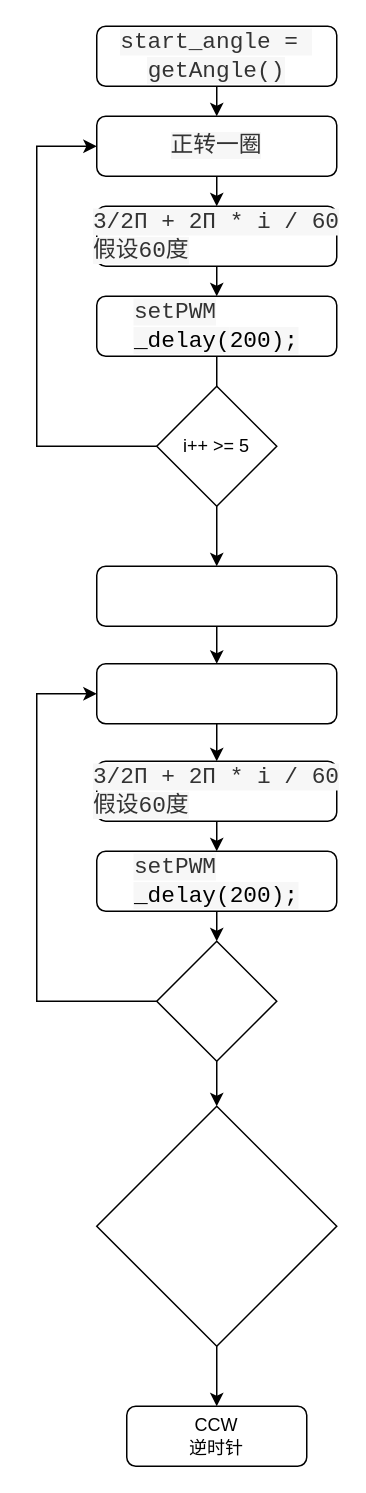
The diagram is 366 pixels wide and 1493 high, and some of its shapes have lost their labels. The shapes that lost their labels are listed below. From the top down, each one's centre as x and y in pixels, then its label:
point (216, 595): middle_angle = getAngle()
point (216, 693): 反转一圈
point (216, 1000): i-- -< 0
point (216, 1225): start_angle < middle_angle
